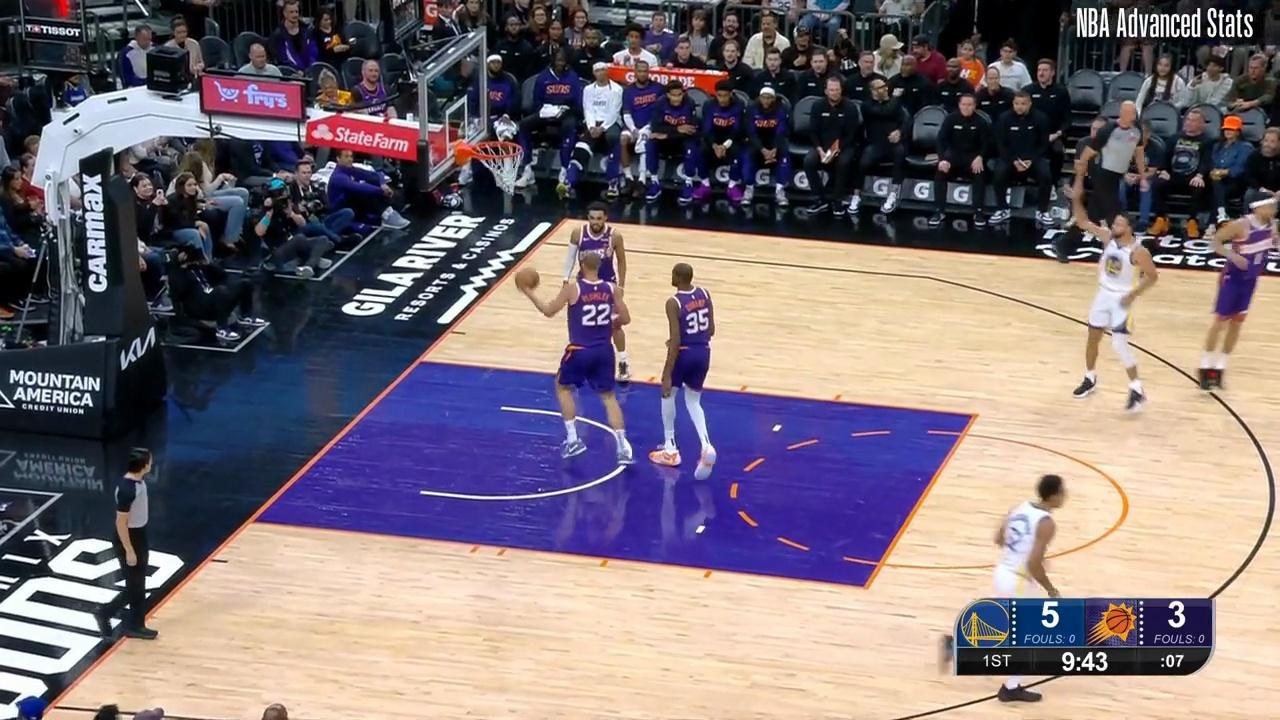basketball: (511, 267, 541, 291)
